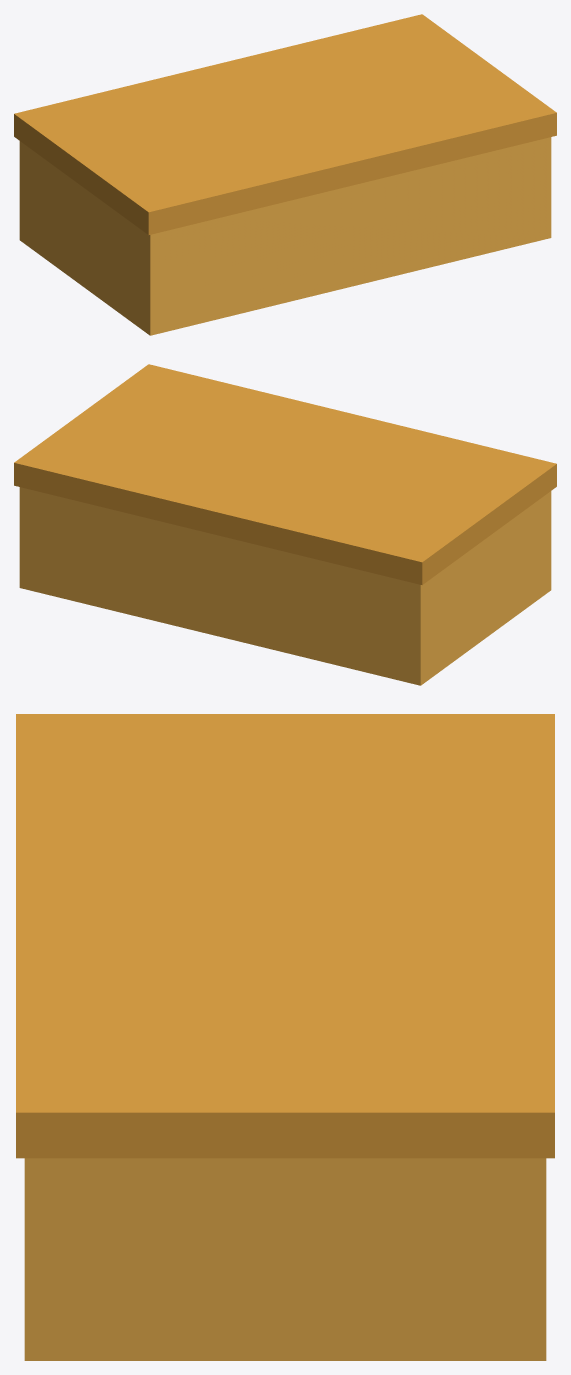
File: basquete_cintura.glb
3 views of the same model, one above another, from view 1: azimuth 30°, elevation 25°; view 2: azimuth 150°, elevation 25°; view 3: azimuth 270°, elevation 25° (orthographic). The views are drawn at different scales.
Visible parts, largest first — view 1: basquete_cintura; view 2: basquete_cintura; view 3: basquete_cintura.
Boxes of the visible parts, x1,y1,x2,y2 form: basquete_cintura: (14,14,556,335); basquete_cintura: (14,364,556,685); basquete_cintura: (16,714,554,1360).
Bounding box in the file's own units: 0.56 × 0.165 × 0.32.
